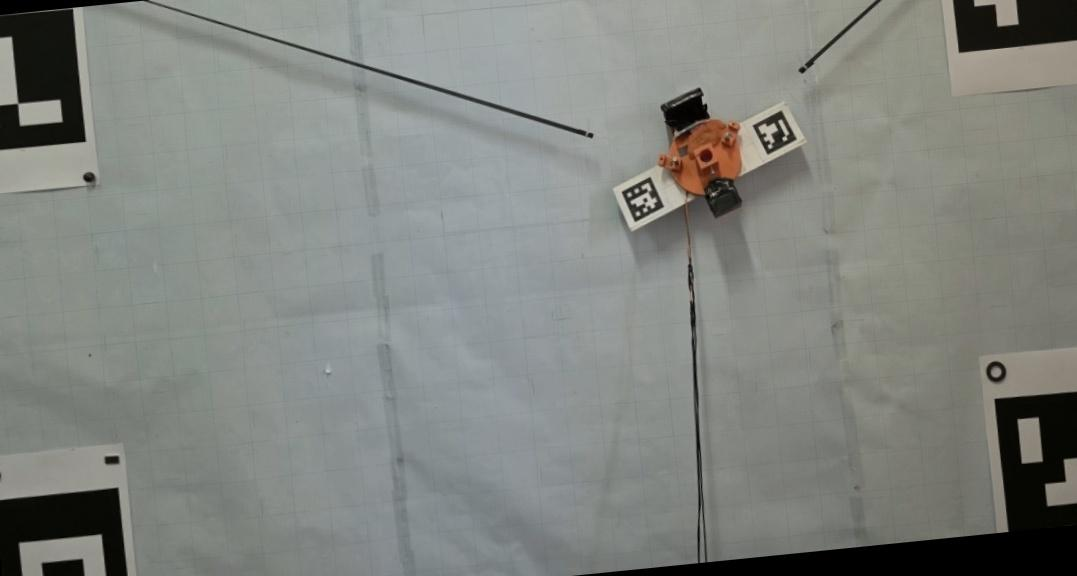robot: (657, 87, 743, 220)
